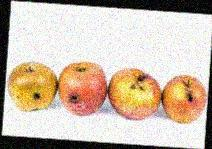rotten apple: (106, 67, 161, 121), (56, 60, 107, 116), (6, 59, 56, 112), (161, 71, 207, 126)
